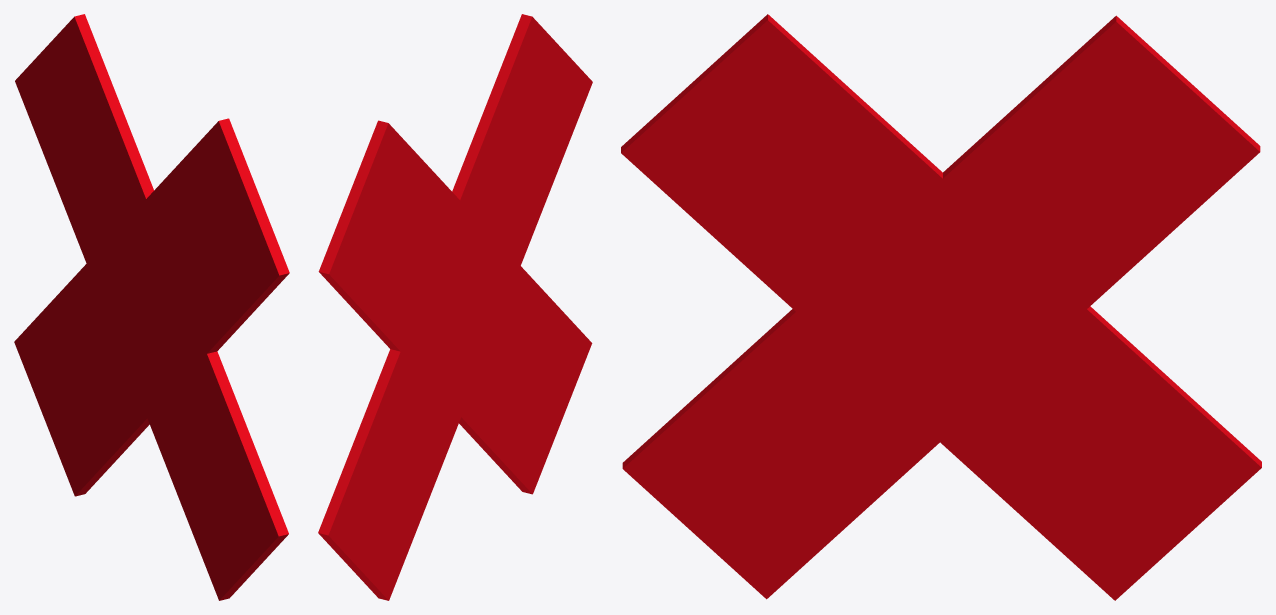
The picture shows the model from 3 angles, left to right: view 1: azimuth 30°, elevation 25°; view 2: azimuth 150°, elevation 25°; view 3: azimuth 270°, elevation 25°; orthographic projection. The views are drawn at different scales.
Parts seen in each view (by area): view 1: Cube; view 2: Cube; view 3: Cube.
Boxes of the visible parts, x1,y1,x2,y2 form: Cube: [14, 14, 289, 600]; Cube: [318, 14, 592, 600]; Cube: [621, 14, 1261, 600].
Size of the model in its own units: 1.37 by 60.29 by 60.29.
